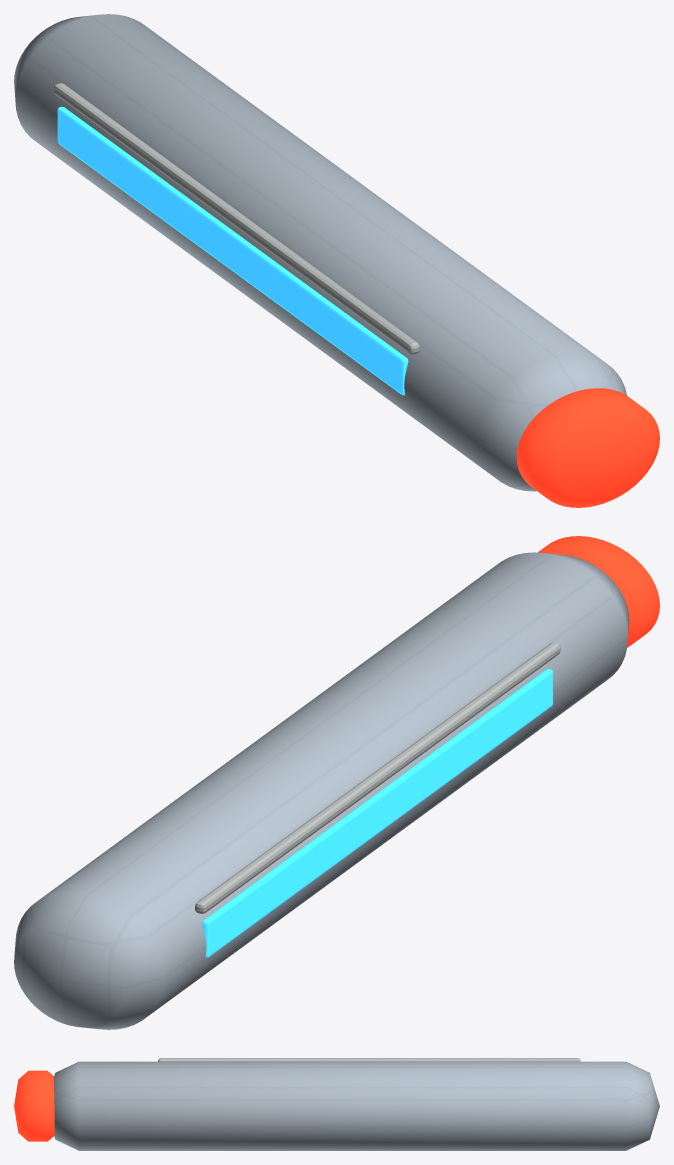
File: OriginalCruiser_Nacelle_A.glb
The picture shows the model from 3 angles, top to bottom: view 1: azimuth 30°, elevation 25°; view 2: azimuth 150°, elevation 25°; view 3: azimuth 270°, elevation 25°; orthographic projection. The views are drawn at different scales.
Parts seen in each view (by area): view 1: OriginalCruiser_Nacelle_A; view 2: OriginalCruiser_Nacelle_A; view 3: OriginalCruiser_Nacelle_A.
Boxes of the visible parts, x1,y1,x2,y2 form: OriginalCruiser_Nacelle_A: (14, 14, 659, 507); OriginalCruiser_Nacelle_A: (14, 536, 659, 1029); OriginalCruiser_Nacelle_A: (14, 1058, 659, 1150).
Bounding box in the file's own units: 50.8 × 43.03 × 322.
Materials: 1 (1 with a texture image).
